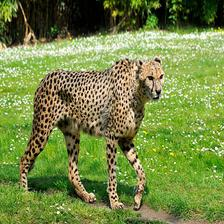Cheetah: (16, 57, 167, 209)
